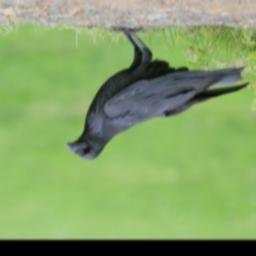Crow: (64, 26, 252, 161)
